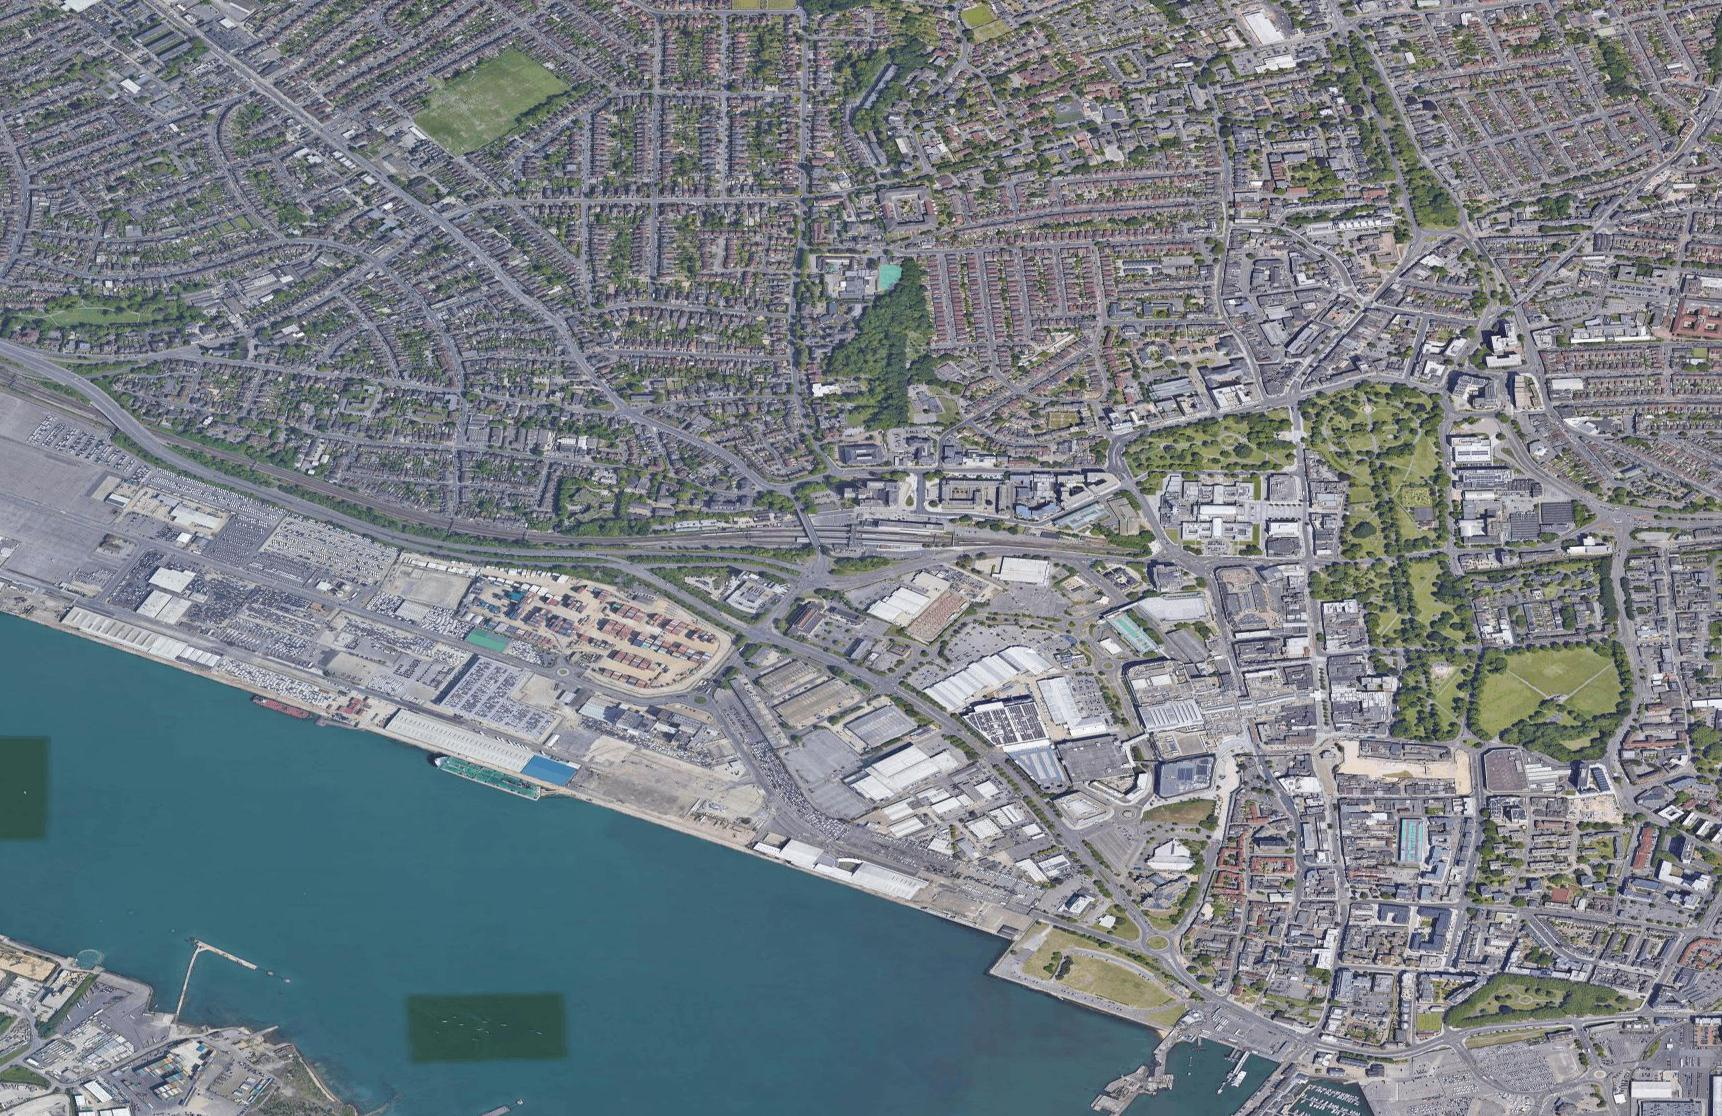bridge: (796, 510, 825, 547)
harbor: (158, 832, 1386, 1116)
motorway: (249, 490, 384, 535), (385, 535, 526, 577), (528, 554, 674, 589), (1, 336, 92, 390), (154, 449, 249, 492), (93, 394, 158, 449)
train_station: (767, 485, 961, 577)
